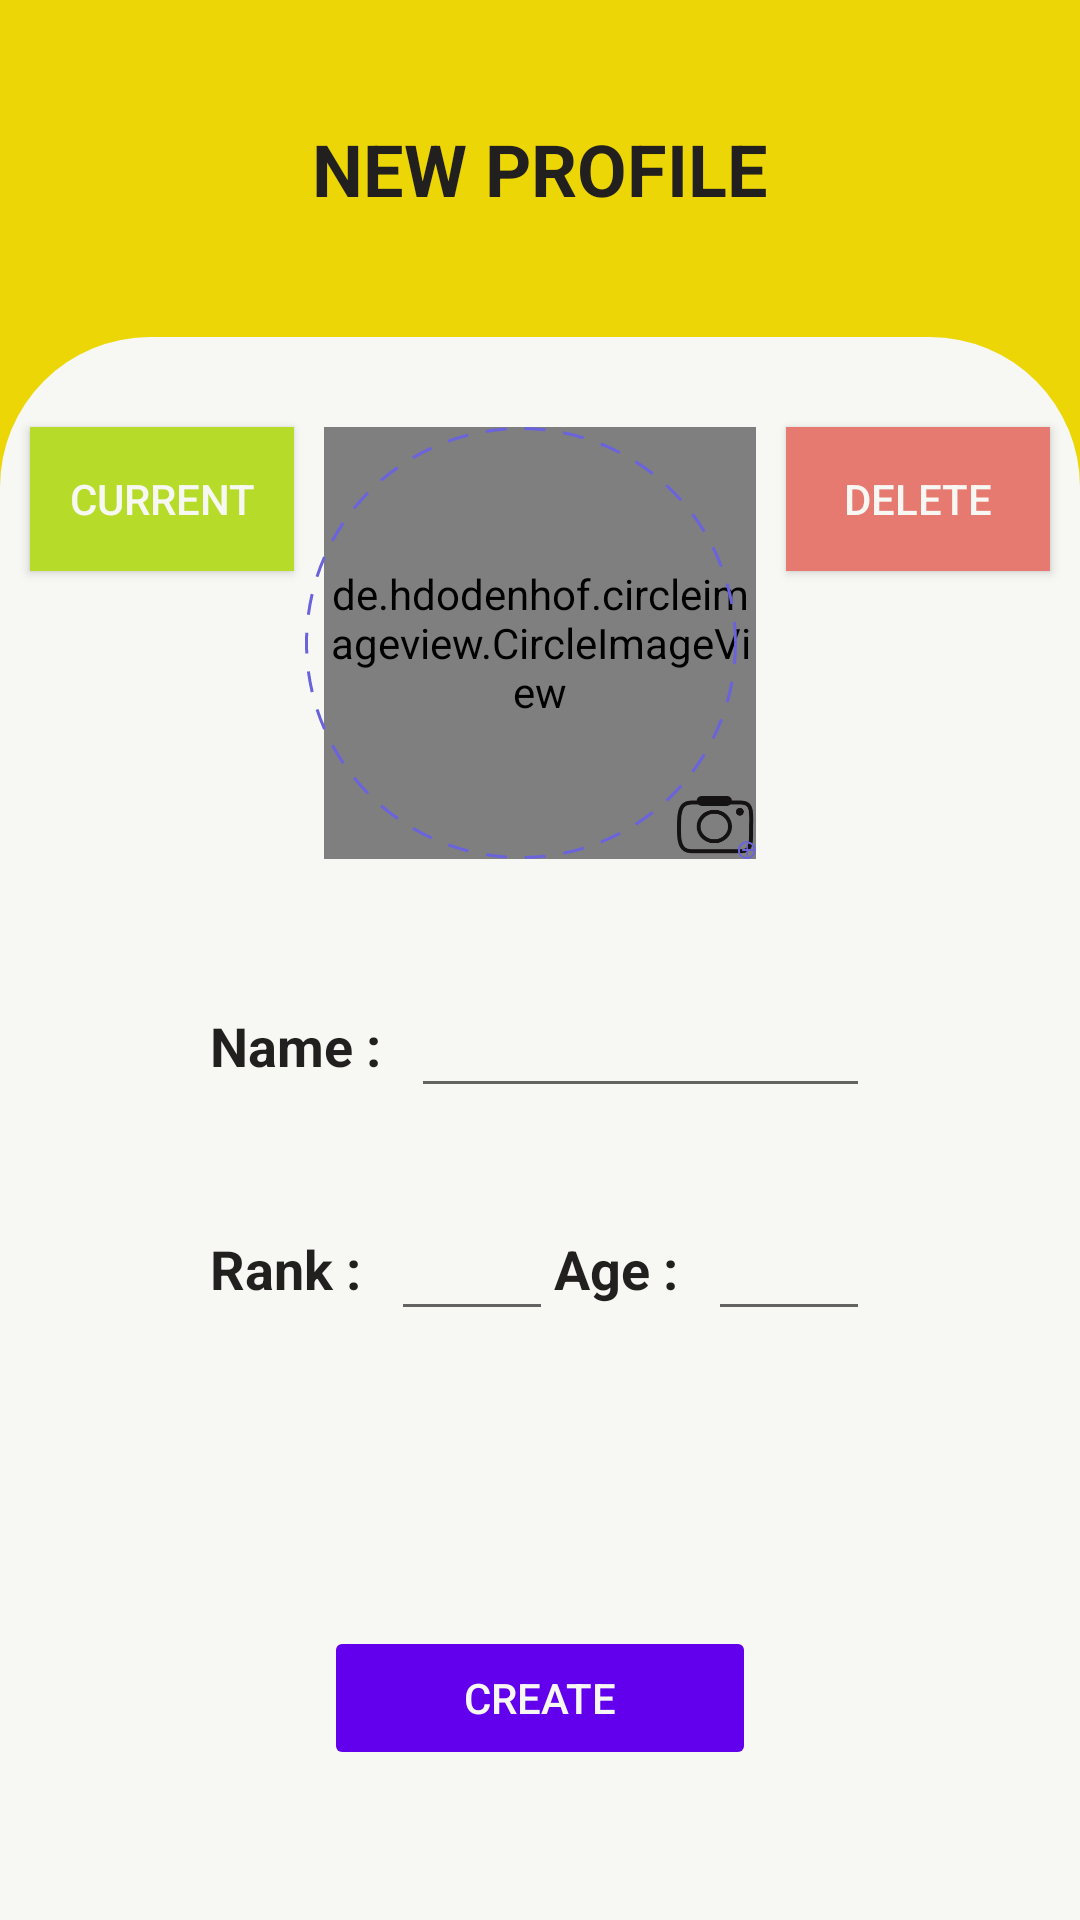

Icon click points for this 1080w x 1920h phone screenshot, format (x=x, y=y):
camera: (x=716, y=827)
